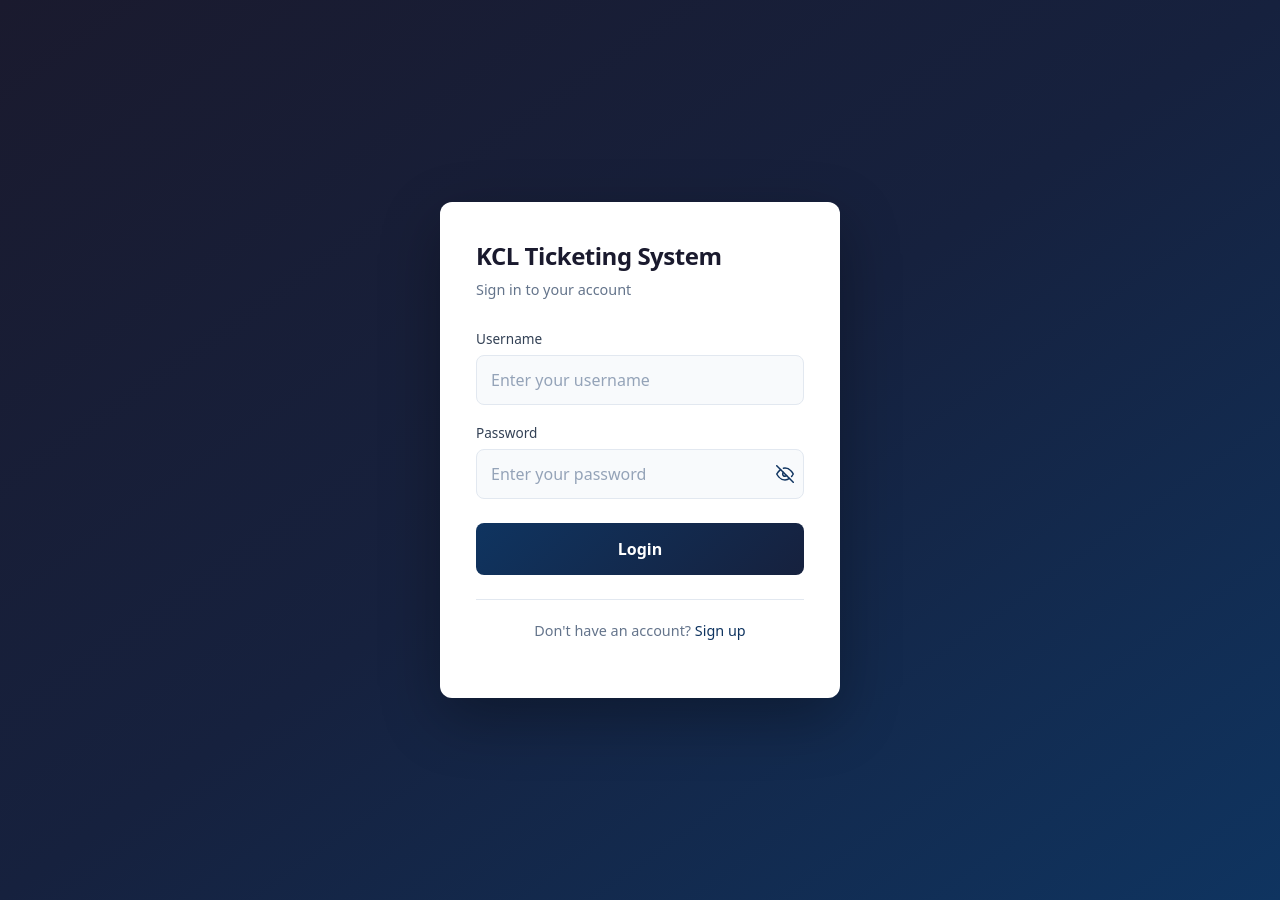
Test case: Login › toggles password visibility
Click the button named "show password" at (785, 474), box [776,465,794,483]
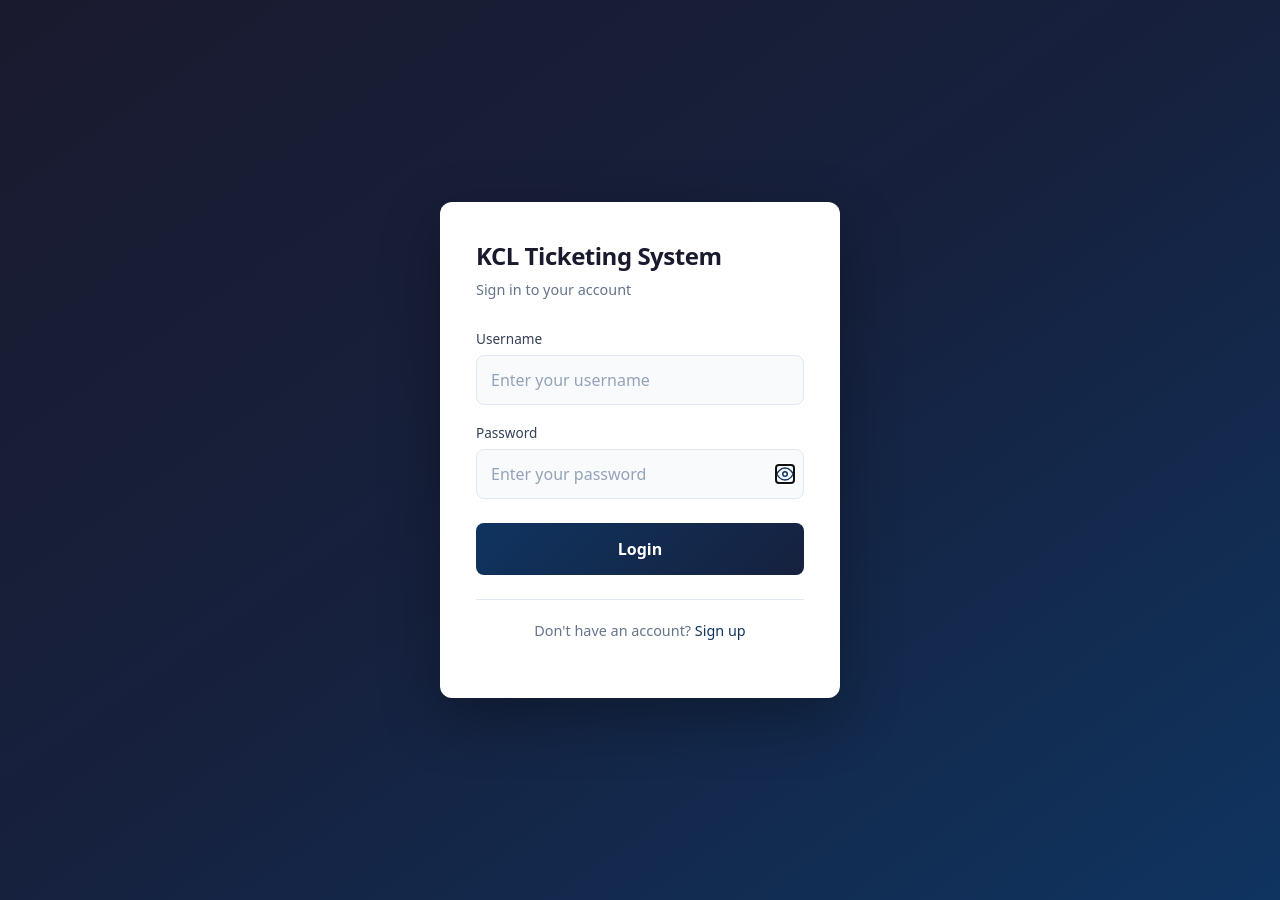
Expected: the button named "hide password" is shown, [776,465,794,483]
